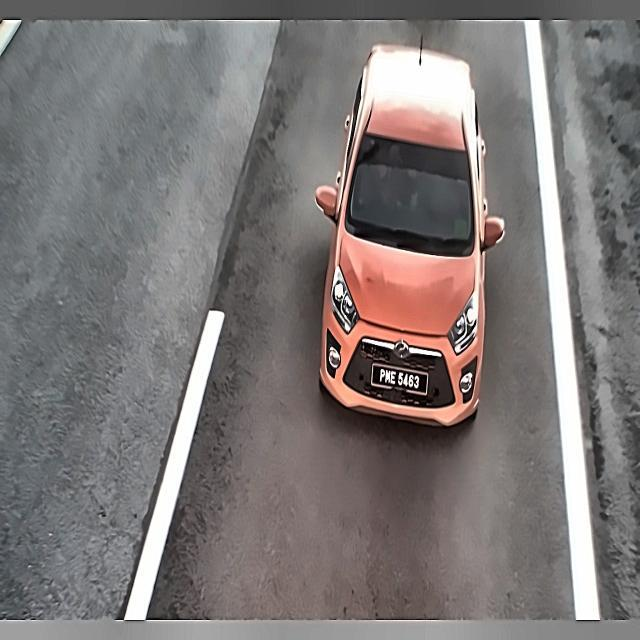car: (367, 354, 427, 400)
